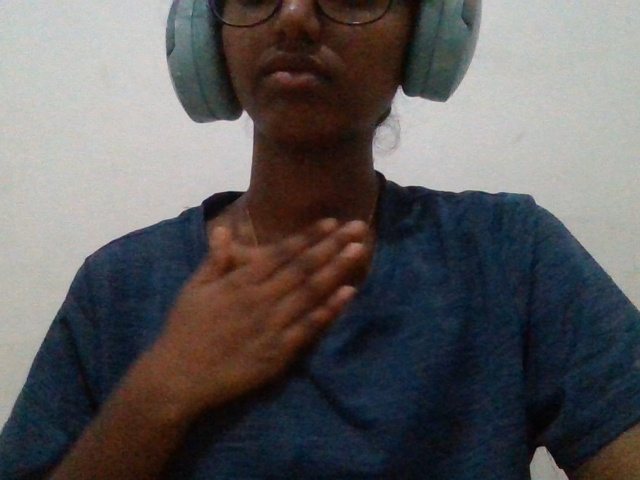Please: (113, 198, 433, 449)
